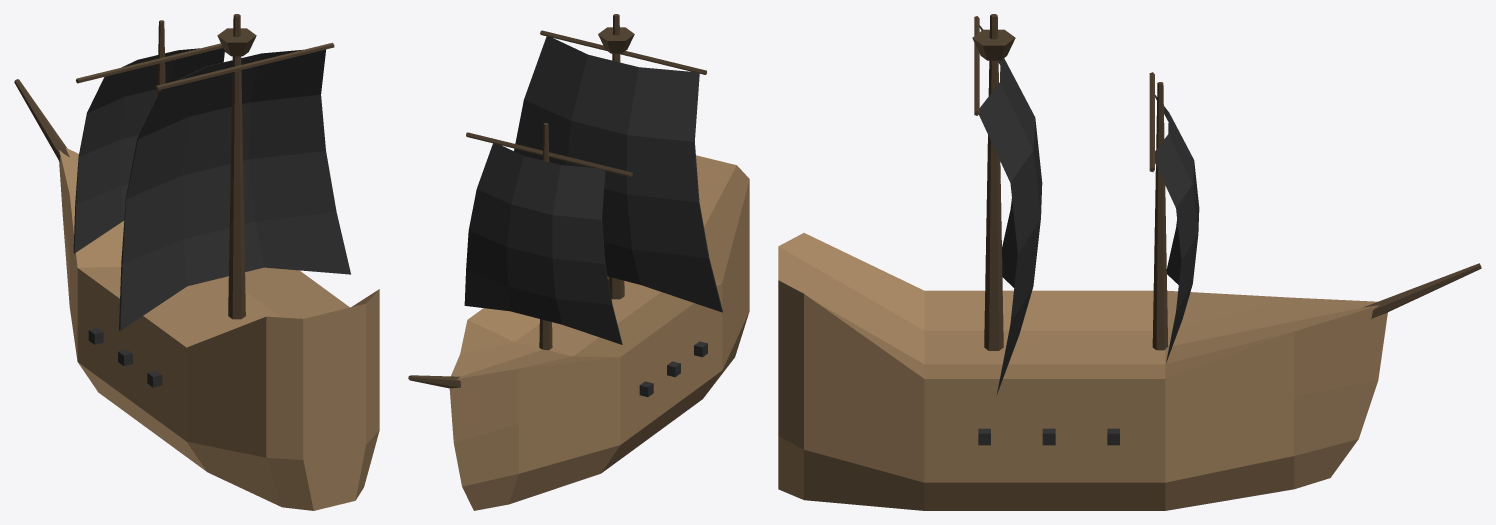
The model's file is PirateShip.fbx.
The picture shows the model from 3 angles, left to right: view 1: azimuth 30°, elevation 25°; view 2: azimuth 150°, elevation 25°; view 3: azimuth 270°, elevation 25°; orthographic projection. The views are drawn at different scales.
Parts seen in each view (by area): view 1: Hull, Sail_back, Sail_front, Mast_back, Cylinder.002, Mast, Cylinder.001, Spotter, Mast_front; view 2: Hull, Sail_back, Sail_front, Cylinder.001, Cylinder.002, Spotter, Mast_front, Mast_back, Mast; view 3: Hull, Sail_back, Sail_front, Mast_back, Mast_front, Mast, Spotter.
Boxes of the visible parts, x1,y1,x2,y2 form: Hull: (59,148,379,510); Sail_back: (119,49,350,330); Sail_front: (73,48,224,253); Mast_back: (228,14,245,319); Cylinder.002: (155,43,334,90); Mast: (14,79,69,161); Cylinder.001: (76,43,222,83); Spotter: (217,28,256,56); Mast_front: (157,20,165,96); Hull: (449,155,749,510); Sail_back: (514,36,722,312); Sail_front: (464,143,622,344); Cylinder.001: (466,132,632,176); Cylinder.002: (540,30,706,74); Spotter: (598,27,634,53); Mast_front: (539,123,552,350); Mast_back: (608,14,624,299); Mast: (408,375,460,388); Hull: (778,233,1387,510); Sail_back: (979,25,1042,395); Sail_front: (1155,95,1199,363); Mast_back: (984,14,1003,350); Mast_front: (1152,82,1168,350); Mast: (1363,263,1481,318); Spotter: (972,29,1015,60).
Bounding box in the file's own units: 228 × 396 × 545.
